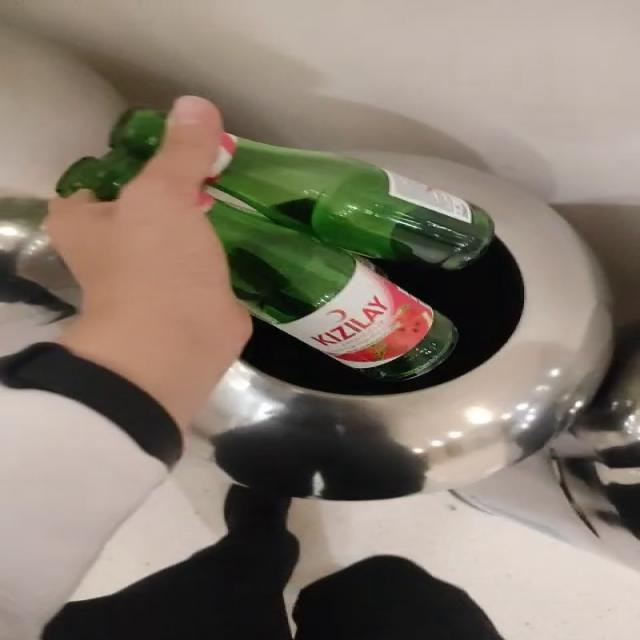glass: (207, 139, 495, 379), (56, 109, 165, 200)
